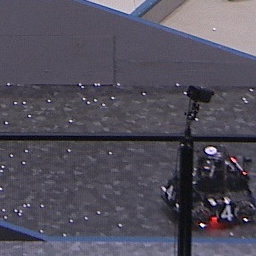Dead: (215, 205, 240, 222), (163, 179, 177, 203)
Robot: (156, 144, 256, 227)
